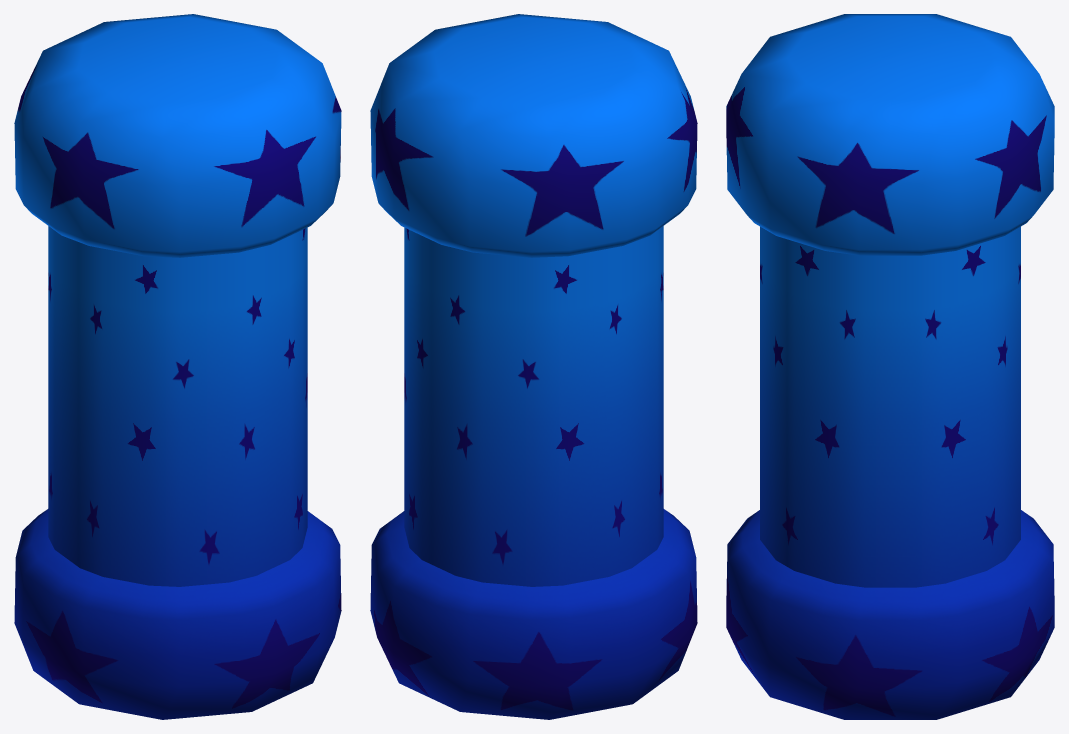
Rendered from PillarB.glb.
3 views of the same model, side by side, from view 1: azimuth 30°, elevation 25°; view 2: azimuth 150°, elevation 25°; view 3: azimuth 270°, elevation 25° (orthographic).
Visible parts, largest first — view 1: Cylinder.008; view 2: Cylinder.008; view 3: Cylinder.008.
Part boxes in pixels (left/top/right/bottom): Cylinder.008: left=14, top=14, right=341, bottom=719; Cylinder.008: left=370, top=14, right=697, bottom=719; Cylinder.008: left=726, top=14, right=1054, bottom=719.
Bounding box in the file's own units: 5 × 10.4 × 5.06.
Materials: 1 (1 with a texture image).
